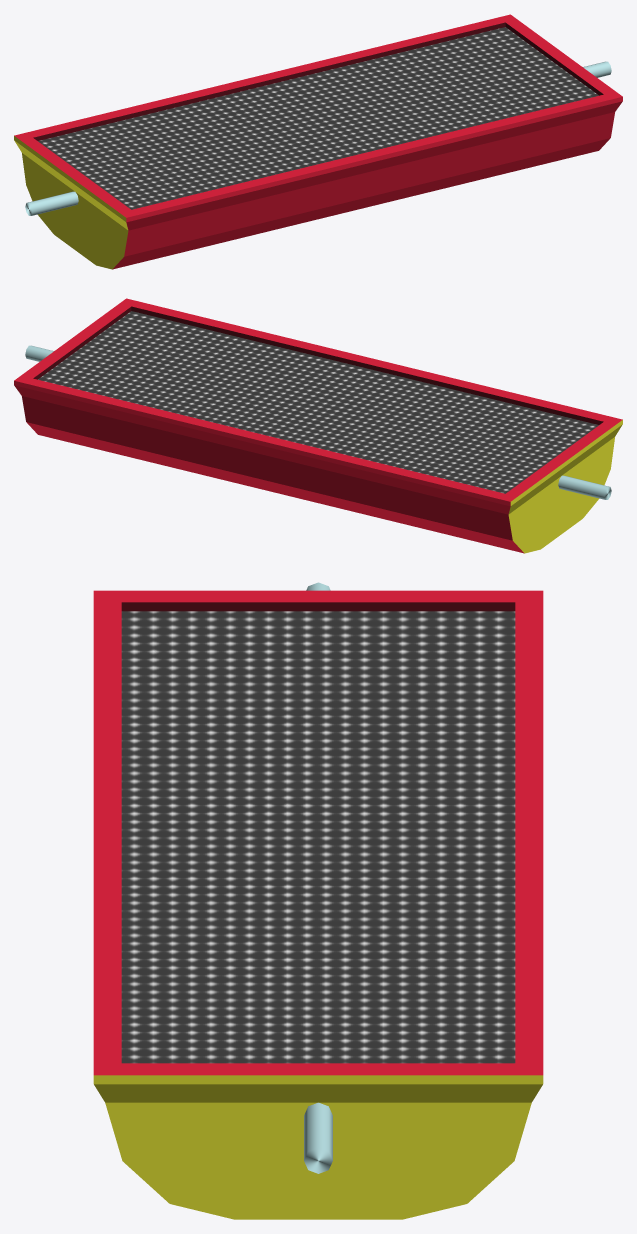
The model's file is BigWheelCabin.fbx.
3 renders of one model, top to bottom at view 1: azimuth 30°, elevation 25°; view 2: azimuth 150°, elevation 25°; view 3: azimuth 270°, elevation 25°, orthographic. The views are drawn at different scales.
Visible parts, largest first — view 1: BigWheelCabin, BigWheelCabin.001, BigWheelCabinBar; view 2: BigWheelCabin, BigWheelCabin.001, BigWheelCabinBar; view 3: BigWheelCabin, BigWheelCabinBar.
Boxes of the visible parts, x1,y1,x2,y2 form: BigWheelCabin: (14, 14, 622, 269); BigWheelCabin.001: (124, 112, 614, 256); BigWheelCabinBar: (25, 61, 611, 215); BigWheelCabin: (14, 298, 622, 553); BigWheelCabin.001: (22, 396, 512, 540); BigWheelCabinBar: (25, 345, 611, 499); BigWheelCabin: (93, 590, 543, 1219); BigWheelCabinBar: (304, 582, 332, 1173).
Size of what is drawn, in the model's own units: 91.89 by 30.88 by 11.31.
